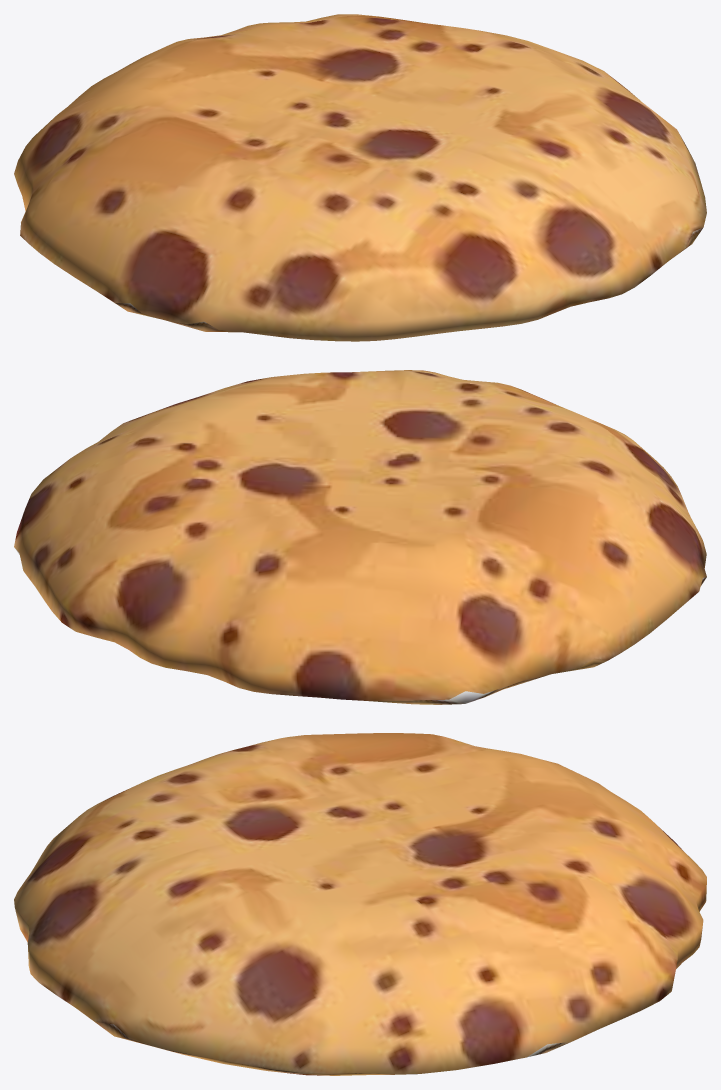
The model's file is Coockie.fbx.
3 renders of one model, top to bottom at view 1: azimuth 30°, elevation 25°; view 2: azimuth 150°, elevation 25°; view 3: azimuth 270°, elevation 25°, orthographic. The views are drawn at different scales.
Parts seen in each view (by area): view 1: Cube; view 2: Cube; view 3: Cube.
Part boxes in pixels (x1,y1,x2,y2): Cube: (14, 14, 706, 341); Cube: (14, 370, 706, 704); Cube: (14, 733, 706, 1075).
Bounding box in the file's own units: 8.82 × 1.42 × 8.7.
